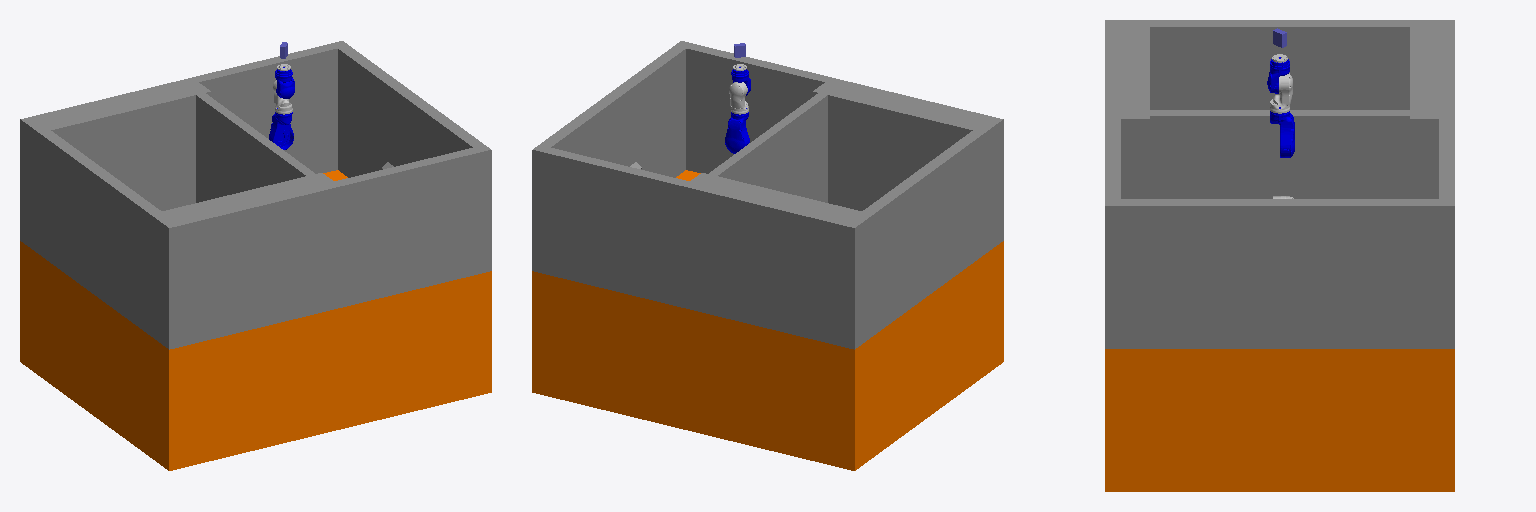
--- Facts derived from the render (not from the file) ---
3 views of the same robot in one strip: view 1: azimuth 30°, elevation 25°; view 2: azimuth 150°, elevation 25°; view 3: azimuth 270°, elevation 25° (orthographic).
Robot: mantis_dual — 49 links, 48 joints (13 revolute, 35 fixed); root link workcell_frame; default pose: every joint at zero.
Links seen in each view (by area): view 1: table_base2, right_wall2, front_wall2, table_base1, right_wall1, left_wall2, front_wall1, left_wall1, back_wall2, sia20d_arm_link_u; view 2: table_base2, left_wall2, front_wall2, table_base1, left_wall1, right_wall2, front_wall1, right_wall1, back_wall2, sia20d_arm_link_u, sia20d_arm_link_r; view 3: front_wall1, table_base1, front_wall2, back_wall1, right_wall2, left_wall2, left_wall1, right_wall1, back_wall2, sia20d_arm_link_u, sia20d_arm_link_r.
Link boxes in pixels (x1=…): table_base2: x1=20, y1=241, x2=329, y2=470; right_wall2: x1=162, y1=173, x2=339, y2=346; front_wall2: x1=20, y1=117, x2=180, y2=349; table_base1: x1=323, y1=170, x2=491, y2=431; right_wall1: x1=334, y1=147, x2=479, y2=307; left_wall2: x1=32, y1=78, x2=210, y2=210; front_wall1: x1=331, y1=41, x2=491, y2=273; left_wall1: x1=191, y1=44, x2=337, y2=173; back_wall2: x1=185, y1=86, x2=322, y2=202; sia20d_arm_link_u: x1=269, y1=108, x2=293, y2=149; table_base2: x1=694, y1=241, x2=1003, y2=470; left_wall2: x1=684, y1=173, x2=861, y2=346; front_wall2: x1=843, y1=117, x2=1003, y2=349; table_base1: x1=532, y1=170, x2=700, y2=431; left_wall1: x1=543, y1=148, x2=690, y2=307; right_wall2: x1=813, y1=78, x2=991, y2=210; front_wall1: x1=532, y1=41, x2=692, y2=273; right_wall1: x1=686, y1=44, x2=832, y2=173; back_wall2: x1=708, y1=87, x2=837, y2=202; sia20d_arm_link_u: x1=725, y1=108, x2=749, y2=153; sia20d_arm_link_r: x1=729, y1=82, x2=748, y2=114; front_wall1: x1=1105, y1=199, x2=1454, y2=348; table_base1: x1=1105, y1=349, x2=1454, y2=491; front_wall2: x1=1105, y1=20, x2=1454, y2=109; back_wall1: x1=1123, y1=113, x2=1435, y2=198; right_wall2: x1=1105, y1=27, x2=1149, y2=198; left_wall2: x1=1410, y1=27, x2=1454, y2=198; left_wall1: x1=1439, y1=118, x2=1454, y2=199; right_wall1: x1=1105, y1=118, x2=1120, y2=198; back_wall2: x1=1123, y1=110, x2=1437, y2=112; sia20d_arm_link_u: x1=1270, y1=107, x2=1294, y2=157; sia20d_arm_link_r: x1=1270, y1=73, x2=1292, y2=113.
Size in the robot's own frame: 2.77 by 2.22 by 2.68 metres.
Meshes: 16 distinct files referenced, 6 mesh visuals loaded (6 binary STL); not drawn: 10 (reference not matched to a file when rendering).

robot.urdf — mantis_dual:
<?xml version="1.0" ?>
<!-- =================================================================================== -->
<!-- |    This document was autogenerated by xacro from urdf/mantis_dual_arm_workspace.xacro | -->
<!-- |    EDITING THIS FILE BY HAND IS NOT RECOMMENDED                                 | -->
<!-- =================================================================================== -->
<robot name="mantis_dual" xmlns:controller="http://playerstage.sourceforge.net/gazebo/xmlschema/#controller" xmlns:interface="http://playerstage.sourceforge.net/gazebo/xmlschema/#interface" xmlns:sensor="http://playerstage.sourceforge.net/gazebo/xmlschema/#sensor" xmlns:xacro="http://ros.org/wiki/xacro">
  <gazebo>
    <controller:gazebo_ros_controller_manager name="gazebo_ros_controller_manager" plugin="libgazebo_ros_controller_manager.so">
      <alwaysOn>true</alwaysOn>
      <updateRate>1000.0</updateRate>
      <interface:audio name="gazebo_ros_controller_manager_dummy_iface"/>
    </controller:gazebo_ros_controller_manager>
    <controller:gazebo_ros_power_monitor name="gazebo_ros_power_monitor_controller" plugin="libgazebo_ros_power_monitor.so">
      <alwaysOn>true</alwaysOn>
      <updateRate>1.0</updateRate>
      <timeout>5</timeout>
      <interface:audio name="power_monitor_dummy_interface"/>
      <powerStateTopic>power_state</powerStateTopic>
      <powerStateRate>10.0</powerStateRate>
      <fullChargeCapacity>87.78</fullChargeCapacity>
      <dischargeRate>-474</dischargeRate>
      <chargeRate>525</chargeRate>
      <dischargeVoltage>15.52</dischargeVoltage>
      <chargeVoltage>16.41</chargeVoltage>
    </controller:gazebo_ros_power_monitor>
  </gazebo>
  <material name="yellow_transparent">
    <color rgba="0 1 1 0.4"/>
  </material>
  <material name="orange_transparent">
    <color rgba="1 0.5 0 0.4"/>
  </material>
  <material name="gray_transparent">
    <color rgba="0.6 0.6 0.6 0.4"/>
  </material>
  <material name="blue_transparent">
    <color rgba="0 0.8 1 0.4"/>
  </material>
  <link name="workcell_frame"/>
  <!-- property list -->
  <!-- instantiating arm and gripper -->
  <link name="sia20d_arm_palm">
    <visual>
      <origin rpy="0 0 0" xyz="0 0.036 -0.0473"/>
      <geometry>
        <box size="0.044 0.088 0.0946"/>
      </geometry>
      <material name="another_blue1">
        <color rgba="0.40 0.40 0.80 1"/>
      </material>
    </visual>
    <collision>
      <origin rpy="0 0 0" xyz="0 0.036 -0.0473"/>
      <geometry>
        <box size="0.044 0.088 0.0946"/>
      </geometry>
      <material name="another_blue2">
        <color rgba="0.38 0.54 0.83 1"/>
      </material>
    </collision>
  </link>
  <link name="sia20d_arm_base_link">
    <visual>
      <geometry>
        <mesh filename="package://motoman_config/meshes/sia20d/visual/MOTOMAN_BASE.stl"/>
      </geometry>
      <material name="blue">
        <color rgba="0 0 1 1"/>
      </material>
    </visual>
    <collision>
      <geometry>
        <mesh filename="package://motoman_config/meshes/sia20d/collision/MOTOMAN_BASE.stl"/>
      </geometry>
      <material name="yellow">
        <color rgba="0 1 1 1"/>
      </material>
    </collision>
  </link>
  <link name="sia20d_arm_link_s">
    <visual>
      <origin rpy="0 0 3.1416" xyz="0 0 0"/>
      <geometry>
        <mesh filename="package://motoman_config/meshes/sia20d/visual/MOTOMAN_AXIS_S.stl"/>
      </geometry>
      <material name="silver">
        <color rgba="0.8 0.8 0.8 1"/>
      </material>
    </visual>
    <collision>
      <origin rpy="0 0 3.1416" xyz="0 0 0"/>
      <geometry>
        <mesh filename="package://motoman_config/meshes/sia20d/collision/MOTOMAN_AXIS_S.stl"/>
      </geometry>
      <material name="yellow"/>
    </collision>
  </link>
  <link name="sia20d_arm_link_l">
    <visual>
      <origin rpy="1.57 3.1416 3.1416" xyz="0 0 0"/>
      <geometry>
        <mesh filename="package://motoman_config/meshes/sia20d/visual/MOTOMAN_AXIS_L.stl"/>
      </geometry>
      <material name="blue"/>
    </visual>
    <collision>
      <origin rpy="1.57 3.1416 3.1416" xyz="0 0 0"/>
      <geometry>
        <mesh filename="package://motoman_config/meshes/sia20d/collision/MOTOMAN_AXIS_L.stl"/>
      </geometry>
      <material name="yellow"/>
    </collision>
  </link>
  <link name="sia20d_arm_link_e">
    <visual>
      <origin rpy="0 0 0" xyz="0 0 0"/>
      <geometry>
        <mesh filename="package://motoman_config/meshes/sia20d/visual/MOTOMAN_AXIS_E.stl"/>
      </geometry>
      <material name="silver"/>
    </visual>
    <collision>
      <origin rpy="0 0 0" xyz="0 0 0"/>
      <geometry>
        <mesh filename="package://motoman_config/meshes/sia20d/collision/MOTOMAN_AXIS_E.stl"/>
      </geometry>
      <material name="yellow"/>
    </collision>
  </link>
  <link name="sia20d_arm_link_u">
    <visual>
      <origin rpy="1.57 -3.1415 3.1416" xyz="0 0 0"/>
      <geometry>
        <mesh filename="package://motoman_config/meshes/sia20d/visual/MOTOMAN_AXIS_U.stl"/>
      </geometry>
      <material name="blue"/>
    </visual>
    <collision>
      <origin rpy="1.57 -3.1415 3.1416" xyz="0 0 0"/>
      <geometry>
        <mesh filename="package://motoman_config/meshes/sia20d/collision/MOTOMAN_AXIS_U.stl"/>
      </geometry>
      <material name="yellow"/>
    </collision>
  </link>
  <link name="sia20d_arm_link_r">
    <visual>
      <origin rpy="0 0 0" xyz="0 0 0"/>
      <geometry>
        <mesh filename="package://motoman_config/meshes/sia20d/visual/MOTOMAN_AXIS_R.stl"/>
      </geometry>
      <material name="silver"/>
    </visual>
    <collision>
      <origin rpy="0 0 0" xyz="0 0 0"/>
      <geometry>
        <mesh filename="package://motoman_config/meshes/sia20d/collision/MOTOMAN_AXIS_R.stl"/>
      </geometry>
      <material name="yellow"/>
    </collision>
  </link>
  <link name="sia20d_arm_link_b">
    <visual>
      <origin rpy="-1.57 0 0" xyz="0 0 0"/>
      <geometry>
        <mesh filename="package://motoman_config/meshes/sia20d/visual/MOTOMAN_AXIS_B.stl"/>
      </geometry>
      <material name="blue"/>
    </visual>
    <collision>
      <origin rpy="-1.57 0 0" xyz="0 0 0"/>
      <geometry>
        <mesh filename="package://motoman_config/meshes/sia20d/collision/MOTOMAN_AXIS_B.stl"/>
      </geometry>
      <material name="yellow"/>
    </collision>
  </link>
  <link name="sia20d_arm_link_t">
    <visual>
      <geometry>
        <mesh filename="package://motoman_config/meshes/sia20d/visual/MOTOMAN_AXIS_T.stl"/>
      </geometry>
      <material name="silver"/>
    </visual>
    <collision>
      <geometry>
        <mesh filename="package://motoman_config/meshes/sia20d/collision/MOTOMAN_AXIS_T.stl"/>
      </geometry>
      <material name="yellow"/>
    </collision>
  </link>
  <joint name="sia20d_arm_joint_s" type="revolute">
    <parent link="sia20d_arm_base_link"/>
    <child link="sia20d_arm_link_s"/>
    <origin rpy="0 0 0" xyz="0 0 0.41"/>
    <axis xyz="0 0 1"/>
    <limit effort="100" lower="-3.1416" upper="3.1416" velocity="2.26"/>
  </joint>
  <joint name="sia20d_arm_joint_l" type="revolute">
    <parent link="sia20d_arm_link_s"/>
    <child link="sia20d_arm_link_l"/>
    <origin rpy="0 0 0" xyz="0 0 0"/>
    <axis xyz="0 1 0"/>
    <limit effort="100" lower="-1.91" upper="1.91" velocity="2.26"/>
  </joint>
  <joint name="sia20d_arm_joint_e" type="revolute">
    <parent link="sia20d_arm_link_l"/>
    <child link="sia20d_arm_link_e"/>
    <origin rpy="0 0 0" xyz="0 0 0.49"/>
    <axis xyz="0 0 1"/>
    <limit effort="100" lower="-2.96" upper="2.96" velocity="2.96"/>
  </joint>
  <joint name="sia20d_arm_joint_u" type="revolute">
    <parent link="sia20d_arm_link_e"/>
    <child link="sia20d_arm_link_u"/>
    <origin rpy="0 0 0" xyz="0 0 0"/>
    <axis xyz="0 -1 0"/>
    <limit effort="100" lower="-2.26" upper="2.26" velocity="2.96"/>
  </joint>
  <joint name="sia20d_arm_joint_r" type="revolute">
    <parent link="sia20d_arm_link_u"/>
    <child link="sia20d_arm_link_r"/>
    <origin rpy="0 0 0" xyz="0 0 0.420"/>
    <axis xyz="0 0 -1"/>
    <limit effort="100" lower="-3.1416" upper="3.1416" velocity="3.48"/>
  </joint>
  <joint name="sia20d_arm_joint_b" type="revolute">
    <parent link="sia20d_arm_link_r"/>
    <child link="sia20d_arm_link_b"/>
    <origin rpy="0 0 0" xyz="0 0 0"/>
    <axis xyz="0 -1 0"/>
    <limit effort="100" lower="-1.91" upper="1.91" velocity="3.48"/>
  </joint>
  <joint name="sia20d_arm_joint_t" type="revolute">
    <parent link="sia20d_arm_link_b"/>
    <child link="sia20d_arm_link_t"/>
    <origin rpy="0 0 0" xyz="0 0 0.18"/>
    <axis xyz="0 0 -1"/>
    <limit effort="100" lower="-3.1416" upper="3.1416" velocity="6.97"/>
  </joint>
  <link name="ur5_arm_base_link">
    <visual>
      <geometry>
        <mesh filename="package://ur5_description/meshes/Base.dae"/>
      </geometry>
      <origin rpy="0.0 0.0 2.3561944875" xyz="0.0 0.0 0.003"/>
    </visual>
    <inertial>
      <mass value="4.0"/>
      <inertia ixx="1.0" ixy="0.0" ixz="0.0" iyy="1.0" iyz="0.0" izz="1.0"/>
    </inertial>
  </link>
  <joint name="ur5_arm_shoulder_pan_joint" type="revolute">
    <parent link="ur5_arm_base_link"/>
    <child link="ur5_arm_shoulder_link"/>
    <origin rpy="0.0 0.0 0.0" xyz="0.0 0.0 0.089159"/>
    <axis xyz="0.0 0.0 1.0"/>
    <limit effort="10.0" lower="-6.2831853" upper="6.2831853" velocity="3.14159265"/>
    <dynamics damping="10" friction="0.1"/>
  </joint>
  <link name="ur5_arm_shoulder_link">
    <visual>
      <geometry>
        <mesh filename="package://ur5_description/meshes/Shoulder.dae"/>
      </geometry>
    </visual>
    <collision>
      <geometry>
        <cylinder length="0.16" radius="0.06"/>
      </geometry>
      <origin rpy="0.0 0.0 0.0" xyz="0.0 0.0 -0.009159"/>
    </collision>
    <inertial>
      <mass value="3.7"/>
      <inertia ixx="1.0" ixy="0.0" ixz="0.0" iyy="1.0" iyz="0.0" izz="1.0"/>
      <origin rpy="0.0 0.0 0.0" xyz="0.0 0.00193 -0.02561"/>
    </inertial>
  </link>
  <joint name="ur5_arm_shoulder_lift_joint" type="revolute">
    <parent link="ur5_arm_shoulder_link"/>
    <child link="ur5_arm_upper_arm_link"/>
    <origin rpy="0.0 1.570796325 0.0" xyz="0.0 0.13585 0.0"/>
    <axis xyz="0.0 1.0 0.0"/>
    <limit effort="10.0" lower="-6.2831853" upper="6.2831853" velocity="3.14159265"/>
    <dynamics damping="10" friction="0.1"/>
  </joint>
  <link name="ur5_arm_upper_arm_link">
    <visual>
      <geometry>
        <mesh filename="package://ur5_description/meshes/UpperArm.dae"/>
      </geometry>
      <origin rpy="0.0 0.0 0.0" xyz="0.0 0.0 0.0"/>
    </visual>
    <collision>
      <geometry>
        <cylinder length="0.425" radius="0.054"/>
      </geometry>
      <origin rpy="0.0 0.0 0.0" xyz="0.0 0.0 0.2125"/>
    </collision>
    <inertial>
      <mass value="8.393"/>
      <inertia ixx="1.0" ixy="0.0" ixz="0.0" iyy="1.0" iyz="0.0" izz="1.0"/>
      <origin rpy="0.0 0.0 0.0" xyz="0.0 -0.024201 0.2125"/>
    </inertial>
  </link>
  <joint name="ur5_arm_elbow_joint" type="revolute">
    <parent link="ur5_arm_upper_arm_link"/>
    <child link="ur5_arm_forearm_link"/>
    <origin rpy="0.0 0.0 0.0" xyz="0.0 -0.1197 0.425"/>
    <axis xyz="0.0 1.0 0.0"/>
    <limit effort="10.0" lower="-6.2831853" upper="6.2831853" velocity="3.14159265"/>
    <dynamics damping="10" friction="0.1"/>
  </joint>
  <link name="ur5_arm_forearm_link">
    <visual>
      <geometry>
        <mesh filename="package://ur5_description/meshes/Forearm.dae"/>
      </geometry>
    </visual>
    <collision>
      <geometry>
        <cylinder length="0.39225" radius="0.04"/>
      </geometry>
      <origin rpy="0.0 0.0 0.0" xyz="0.0 0.0 0.196125"/>
    </collision>
    <inertial>
      <mass value="2.275"/>
      <origin rpy="0.0 0.0 0.0" xyz="0.0 0.0265 0.11993"/>
      <inertia ixx="1.0" ixy="0.0" ixz="0.0" iyy="1.0" iyz="0.0" izz="1.0"/>
    </inertial>
  </link>
  <joint name="ur5_arm_wrist_1_joint" type="revolute">
    <parent link="ur5_arm_forearm_link"/>
    <child link="ur5_arm_wrist_1_link"/>
    <origin rpy="0.0 1.570796325 0.0" xyz="0.0 0.0 0.39225"/>
    <axis xyz="0.0 1.0 0.0"/>
    <limit effort="10.0" lower="-6.2831853" upper="6.2831853" velocity="3.14159265"/>
    <dynamics damping="10" friction="0.1"/>
  </joint>
  <link name="ur5_arm_wrist_1_link">
    <visual>
      <geometry>
        <mesh filename="package://ur5_description/meshes/Wrist1.dae"/>
      </geometry>
      <origin rpy="0.0 1.570796325 0.0" xyz="0.0 0.093 0.0"/>
    </visual>
    <collision>
      <geometry>
        <cylinder length="0.1488" radius="0.045"/>
      </geometry>
      <origin rpy="-1.570796325 0.0 0.0" xyz="0.0 0.02325 0.0"/>
    </collision>
    <inertial>
      <mass value="1.219"/>
      <origin rpy="0.0 0.0 0.0" xyz="0.0 0.110949 0.01634"/>
      <inertia ixx="1.0" ixy="0.0" ixz="0.0" iyy="1.0" iyz="0.0" izz="1.0"/>
    </inertial>
  </link>
  <joint name="ur5_arm_wrist_2_joint" type="revolute">
    <parent link="ur5_arm_wrist_1_link"/>
    <child link="ur5_arm_wrist_2_link"/>
    <origin rpy="0.0 0.0 0.0" xyz="0.0 0.093 0.0"/>
    <axis xyz="0.0 0.0 1.0"/>
    <limit effort="10.0" lower="-6.2831853" upper="6.2831853" velocity="3.14159265"/>
    <dynamics damping="10" friction="0.1"/>
  </joint>
  <link name="ur5_arm_wrist_2_link">
    <visual>
      <geometry>
        <mesh filename="package://ur5_description/meshes/Wrist2.dae"/>
      </geometry>
      <origin rpy="0.0 0.0 0.0" xyz="0.0 0.0 0.09465"/>
    </visual>
    <collision>
      <geometry>
        <cylinder length="0.15144" radius="0.045"/>
      </geometry>
      <origin rpy="0.0 0.0 0.0" xyz="0.0 0.0 0.0236625"/>
    </collision>
    <inertial>
      <mass value="1.219"/>
      <origin rpy="0.0 0.0 0.0" xyz="0.0 0.0018 0.11099"/>
      <inertia ixx="1.0" ixy="0.0" ixz="0.0" iyy="1.0" iyz="0.0" izz="1.0"/>
    </inertial>
  </link>
  <joint name="ur5_arm_wrist_3_joint" type="revolute">
    <parent link="ur5_arm_wrist_2_link"/>
    <child link="ur5_arm_wrist_3_link"/>
    <origin rpy="0.0 0.0 0.0" xyz="0.0 0.0 0.09465"/>
    <axis xyz="0.0 1.0 0.0"/>
    <limit effort="10.0" lower="-6.2831853" upper="6.2831853" velocity="3.14159265"/>
    <dynamics damping="10" friction="0.1"/>
  </joint>
  <link name="ur5_arm_wrist_3_link">
    <visual>
      <geometry>
        <mesh filename="package://ur5_description/meshes/Wrist3.dae"/>
      </geometry>
    </visual>
    <collision>
      <geometry>
        <cylinder length="0.135795" radius="0.045"/>
      </geometry>
      <origin rpy="-1.570796325 0.0 0.0" xyz="0.0 0.012345 0.0"/>
    </collision>
    <inertial>
      <mass value="0.1879"/>
      <origin rpy="0.0 0.0 0.0" xyz="0.0 0.001159 0.0"/>
      <inertia ixx="1.0" ixy="0.0" ixz="0.0" iyy="1.0" iyz="0.0" izz="1.0"/>
    </inertial>
  </link>
  <joint name="ur5_arm_ee_fixed_joint" type="fixed">
    <parent link="ur5_arm_wrist_3_link"/>
    <child link="ur5_arm_ee_link"/>
    <origin rpy="0.0 0.0 1.570796325" xyz="0.0 0.0823 0.0"/>
  </joint>
  <link name="ur5_arm_ee_link"/>
  <transmission name="shoulder_pan_trans" type="pr2_mechanism_model/SimpleTransmission">
    <actuator name="shoulder_pan_motor"/>
    <joint name="ur5_arm_shoulder_pan_joint"/>
    <mechanicalReduction>1</mechanicalReduction>
  </transmission>
  <transmission name="shoulder_lift_trans" type="pr2_mechanism_model/SimpleTransmission">
    <actuator name="shoulder_lift_motor"/>
    <joint name="ur5_arm_shoulder_lift_joint"/>
    <mechanicalReduction>1</mechanicalReduction>
  </transmission>
  <transmission name="elbow_trans" type="pr2_mechanism_model/SimpleTransmission">
    <actuator name="elbow_motor"/>
    <joint name="ur5_arm_elbow_joint"/>
    <mechanicalReduction>1</mechanicalReduction>
  </transmission>
  <transmission name="wrist_1_trans" type="pr2_mechanism_model/SimpleTransmission">
    <actuator name="wrist_1_motor"/>
    <joint name="ur5_arm_wrist_1_joint"/>
    <mechanicalReduction>1</mechanicalReduction>
  </transmission>
  <transmission name="wrist_2_trans" type="pr2_mechanism_model/SimpleTransmission">
    <actuator name="wrist_2_motor"/>
    <joint name="ur5_arm_wrist_2_joint"/>
    <mechanicalReduction>1</mechanicalReduction>
  </transmission>
  <transmission name="wrist_3_trans" type="pr2_mechanism_model/SimpleTransmission">
    <actuator name="wrist_3_motor"/>
    <joint name="ur5_arm_wrist_3_joint"/>
    <mechanicalReduction>1</mechanicalReduction>
  </transmission>
  <gazebo reference="universal_robot">
    <material>Gazebo/Blue</material>
  </gazebo>
  <link name="ur5_arm_gripper_frame"/>
  <link name="ur5_arm_gripper_body">
    <visual>
      <!--origin xyz="0 0.036 -0.0473" rpy="0 0 0"/-->
      <geometry>
        <box size="0.044 0.088 0.0946"/>
      </geometry>
      <material name="another_blue1">
        <color rgba="0.40 0.40 0.80 1"/>
      </material>
    </visual>
    <collision>
      <geometry>
        <box size="0.044 0.088 0.0946"/>
      </geometry>
      <material name="another_blue2">
        <color rgba="0.38 0.54 0.83 1"/>
      </material>
    </collision>
  </link>
  <link name="ur5_arm_tcp_frame"/>
  <joint name="ur5_arm_gripper_to_palm" type="fixed">
    <parent link="ur5_arm_gripper_frame"/>
    <child link="ur5_arm_gripper_body"/>
    <origin rpy="0 0 0" xyz="0 0 0.0473"/>
  </joint>
  <joint name="ur5_arm_gripper_to_tcp" type="fixed">
    <parent link="ur5_arm_gripper_frame"/>
    <child link="ur5_arm_tcp_frame"/>
    <origin rpy="0 0 0" xyz="0.022 0 0.0946"/>
  </joint>
  <!-- instantiating workcell definitions -->
  <link name="table_base1">
    <visual>
      <origin rpy="0 0 0" xyz="0 0 -0.5"/>
      <geometry>
        <box size="1.3875 2.22 1"/>
      </geometry>
      <material name="orange_transparent"/>
    </visual>
    <collision>
      <origin rpy="0 0 0" xyz="0 0 -0.5"/>
      <geometry>
        <box size="1.3875 2.22 1"/>
      </geometry>
      <material name="blue_transparent"/>
    </collision>
  </link>
  <joint name="workcell_to_table_base1" type="fixed">
    <parent link="workcell_frame"/>
    <child link="table_base1"/>
    <origin rpy="0 0 0" xyz="0.69375 0 0"/>
  </joint>
  <link name="front_wall1">
    <visual>
      <geometry>
        <box size="0.1 2.22 1"/>
      </geometry>
      <material name="gray_transparent"/>
    </visual>
    <collision>
      <geometry>
        <box size="0.1 2.22 1"/>
      </geometry>
      <material name="blue_transparent"/>
    </collision>
  </link>
  <joint name="workcell_frame_to_front_wall1" type="fixed">
    <parent link="workcell_frame"/>
    <child link="front_wall1"/>
    <origin rpy="0 0 0" xyz="1.3375 0 0.5"/>
  </joint>
  <link name="back_wall1">
    <visual>
      <geometry>
        <box size="0.04 2.0 1"/>
      </geometry>
      <material name="gray_transparent"/>
    </visual>
    <collision>
      <geometry>
        <box size="0.04 2.0 1"/>
      </geometry>
      <material name="blue_transparent"/>
    </collision>
  </link>
  <joint name="workcell_frame_to_back_wall1" type="fixed">
    <parent link="workcell_frame"/>
    <child link="back_wall1"/>
    <origin rpy="0 0 0" xyz="0.02 0 0.5"/>
  </joint>
  <link name="left_wall1">
    <visual>
      <geometry>
        <box size="1.221 0.1 1"/>
      </geometry>
      <material name="gray_transparent"/>
    </visual>
    <collision>
      <geometry>
        <box size="1.221 0.1 1"/>
      </geometry>
      <material name="blue_transparent"/>
    </collision>
  </link>
  <joint name="workcell_frame_to_left_wall1" type="fixed">
    <parent link="workcell_frame"/>
    <child link="left_wall1"/>
    <origin rpy="0 0 0" xyz="0.687 1.06 0.5"/>
  </joint>
  <link name="right_wall1">
    <visual>
      <geometry>
        <box size="1.221 0.1 1"/>
      </geometry>
      <material name="gray_transparent"/>
    </visual>
    <collision>
      <geometry>
        <box size="1.221 0.1 1"/>
      </geometry>
      <material name="blue_transparent"/>
    </collision>
  </link>
  <joint name="workcell_frame_to_right_wall1" type="fixed">
    <parent link="workcell_frame"/>
    <child link="right_wall1"/>
    <origin rpy="0 0 0" xyz="0.687 -1.06 0.5"/>
  </joint>
  <link name="table_base2">
    <visual>
      <origin rpy="0 0 0" xyz="0 0 -0.5"/>
      <geometry>
        <box size="1.3875 2.22 1"/>
      </geometry>
      <material name="orange_transparent"/>
    </visual>
    <collision>
      <origin rpy="0 0 0" xyz="0 0 -0.5"/>
      <geometry>
        <box size="1.3875 2.22 1"/>
      </geometry>
      <material name="blue_transparent"/>
    </collision>
  </link>
  <joint name="workcell_to_table_base2" type="fixed">
    <parent link="workcell_frame"/>
    <child link="table_base2"/>
    <origin rpy="0 0 0" xyz="-0.69375 0 0"/>
  </joint>
  <link name="front_wall2">
    <visual>
      <geometry>
        <box size="0.1 2.22 1"/>
      </geometry>
      <material name="gray_transparent"/>
    </visual>
    <collision>
      <geometry>
        <box size="0.1 2.22 1"/>
      </geometry>
      <material name="blue_transparent"/>
    </collision>
  </link>
  <joint name="workcell_frame_to_front_wall2" type="fixed">
    <parent link="workcell_frame"/>
    <child link="front_wall2"/>
    <origin rpy="0 0 0" xyz="-1.3375 0 0.5"/>
  </joint>
  <link name="back_wall2">
    <visual>
      <geometry>
        <box size="0.04 2.0 1"/>
      </geometry>
      <material name="gray_transparent"/>
    </visual>
    <collision>
      <geometry>
        <box size="0.04 2.0 1"/>
      </geometry>
      <material name="blue_transparent"/>
    </collision>
  </link>
  <joint name="workcell_frame_to_back_wall2" type="fixed">
    <parent link="workcell_frame"/>
    <child link="back_wall2"/>
    <origin rpy="0 0 0" xyz="-0.02 0 0.5"/>
  </joint>
  <link name="left_wall2">
    <visual>
      <geometry>
        <box size="1.384 0.284 1"/>
      </geometry>
      <material name="gray_transparent"/>
    </visual>
    <collision>
      <geometry>
        <box size="1.384 0.284 1"/>
      </geometry>
      <material name="blue_transparent"/>
    </collision>
  </link>
  <joint name="workcell_frame_to_left_wall2" type="fixed">
    <parent link="workcell_frame"/>
    <child link="left_wall2"/>
    <origin rpy="0 0 0" xyz="-0.601 0.968 0.5"/>
  </joint>
  <link name="right_wall2">
    <visual>
      <geometry>
        <box size="1.384 0.284 1"/>
      </geometry>
      <material name="gray_transparent"/>
    </visual>
    <collision>
      <geometry>
        <box size="1.384 0.284 1"/>
      </geometry>
      <material name="blue_transparent"/>
    </collision>
  </link>
  <joint name="workcell_frame_to_right_wall2" type="fixed">
    <parent link="workcell_frame"/>
    <child link="right_wall2"/>
    <origin rpy="0 0 0" xyz="-0.601 -0.968 0.5"/>
  </joint>
  <link name="cover_part1">
    <visual>
      <geometry>
        <box size="0.229 0.508 0.14"/>
      </geometry>
      <material name="gray_transparent"/>
    </visual>
    <collision>
      <geometry>
        <box size="0.229 0.508 0.14"/>
      </geometry>
      <material name="blue_transparent"/>
    </collision>
  </link>
  <joint name="workcell_frame_to_cover_part1" type="fixed">
    <parent link="workcell_frame"/>
    <child link="cover_part1"/>
    <origin rpy="0 0 0" xyz="-0.042 -0.081 0.07"/>
  </joint>
  <link name="cover_part2">
    <visual>
      <geometry>
        <box size="0.121 0.26 0.14"/>
      </geometry>
      <material name="gray_transparent"/>
    </visual>
    <collision>
      <geometry>
        <box size="0.121 0.26 0.14"/>
      </geometry>
      <material name="blue_transparent"/>
    </collision>
  </link>
  <joint name="workcell_frame_to_cover_part2" type="fixed">
    <parent link="workcell_frame"/>
    <child link="cover_part2"/>
    <origin rpy="0 0 0" xyz="-0.012 -0.465 0.07"/>
  </joint>
  <!-- end of workcell definitions -->
  <!-- instantiating sensor definitions -->
  <material name="sia20d_arm_color_b">
    <color rgba="0 0.8 1 0.4"/>
  </material>
  <material name="sia20d_arm_color_a">
    <color rgba="0.8 0.2 1 0.2"/>
  </material>
  <material name="sia20d_arm_silver">
    <color rgba="0.6 0.6 0.6 1"/>
  </material>
  <link name="sia20d_arm_kinect">
    <collision>
      <material name="sia20d_arm_color_a"/>
      <geometry>
        <box size="0.36 0.28 0.22"/>
      </geometry>
    </collision>
  </link>
  <link name="sia20d_arm_kinect_keepout">
    <collision>
      <material name="sia20d_arm_color_b"/>
      <geometry>
        <box size="0.2 0.32 0.48"/>
      </geometry>
    </collision>
  </link>
  <link name="sia20d_arm_kinect_frame">
    <visual>
      <origin rpy="0 0 0" xyz="0 0 0"/>
      <geometry>
        <box size="0.064 0.28 0.04"/>
      </geometry>
      <material name="sia20d_arm_silver"/>
    </visual>
    <collision>
      <origin rpy="0 0 0" xyz="0 0 0"/>
      <geometry>
        <box size="0.064 0.28 0.04"/>
      </geometry>
    </collision>
  </link>
  <link name="sia20d_arm_kinect_ir_link">
    <visual>
      <origin rpy="0 0 0" xyz="0 0 0"/>
      <geometry>
        <sphere radius="0.0005"/>
      </geometry>
    </visual>
  </link>
  <link name="sia20d_arm_kinect_rgb_link">
    <visual>
      <origin rpy="0 0 0" xyz="0 0 0"/>
      <geometry>
        <sphere radius="0.0005"/>
      </geometry>
    </visual>
  </link>
  <link name="sia20d_arm_kinect_ir_optical_frame"/>
  <link name="sia20d_arm_kinect_rgb_optical_frame"/>
  <joint name="sia20d_arm_kinect_frame_joint" type="fixed">
    <parent link="sia20d_arm_kinect"/>
    <child link="sia20d_arm_kinect_frame"/>
    <origin rpy="0 0 0" xyz="0 0 0"/>
  </joint>
  <joint name="sia20d_arm_kinect_ir_joint" type="fixed">
    <parent link="sia20d_arm_kinect_frame"/>
    <child link="sia20d_arm_kinect_ir_link"/>
    <origin rpy="0 0 0" xyz="0 0 0"/>
  </joint>
  <joint name="sia20d_arm_kinect_ir_optical_frame_joint" type="fixed">
    <parent link="sia20d_arm_kinect_ir_link"/>
    <child link="sia20d_arm_kinect_ir_optical_frame"/>
    <origin rpy="-1.57 0 -1.57" xyz="0 0 0"/>
  </joint>
  <joint name="sia20d_arm_kinect_rgb_joint" type="fixed">
    <parent link="sia20d_arm_kinect_ir_link"/>
    <child link="sia20d_arm_kinect_rgb_link"/>
    <origin rpy="0 0 0" xyz="0 -0.03 0"/>
  </joint>
  <joint name="sia20d_arm_kinect_rgb_optical_frame_joint" type="fixed">
    <parent link="sia20d_arm_kinect_rgb_link"/>
    <child link="sia20d_arm_kinect_rgb_optical_frame"/>
    <origin rpy="-1.57 0 -1.57" xyz="0 0 0"/>
  </joint>
  <joint name="sia20d_arm_workcell_frame_to_kinect" type="fixed">
    <parent link="workcell_frame"/>
    <child link="sia20d_arm_kinect"/>
    <origin rpy="0 0.5235 3.147" xyz="1.2 0 0.4"/>
  </joint>
  <joint name="sia20d_arm_workcell_frame_to_kinect_keepout" type="fixed">
    <parent link="workcell_frame"/>
    <child link="sia20d_arm_kinect_keepout"/>
    <origin rpy="0 0 3.147" xyz="1.2 0 0.24"/>
  </joint>
  <material name="ur5_arm_color_b">
    <color rgba="0 0.8 1 0.4"/>
  </material>
  <material name="ur5_arm_color_a">
    <color rgba="0.8 0.2 1 0.2"/>
  </material>
  <material name="ur5_arm_silver">
    <color rgba="0.6 0.6 0.6 1"/>
  </material>
  <link name="ur5_arm_kinect">
    <collision>
      <material name="ur5_arm_color_a"/>
      <geometry>
        <box size="0.36 0.28 0.22"/>
      </geometry>
    </collision>
  </link>
  <link name="ur5_arm_kinect_keepout">
    <collision>
      <material name="ur5_arm_color_b"/>
      <geometry>
        <box size="0.2 0.32 0.48"/>
      </geometry>
    </collision>
  </link>
  <link name="ur5_arm_kinect_frame">
    <visual>
      <origin rpy="0 0 0" xyz="0 0 0"/>
      <geometry>
        <box size="0.064 0.28 0.04"/>
      </geometry>
      <material name="ur5_arm_silver"/>
    </visual>
    <collision>
      <origin rpy="0 0 0" xyz="0 0 0"/>
      <geometry>
        <box size="0.064 0.28 0.04"/>
      </geometry>
    </collision>
  </link>
  <link name="ur5_arm_kinect_ir_link">
    <visual>
      <origin rpy="0 0 0" xyz="0 0 0"/>
      <geometry>
        <sphere radius="0.0005"/>
      </geometry>
    </visual>
  </link>
  <link name="ur5_arm_kinect_rgb_link">
    <visual>
      <origin rpy="0 0 0" xyz="0 0 0"/>
      <geometry>
        <sphere radius="0.0005"/>
      </geometry>
    </visual>
  </link>
  <link name="ur5_arm_kinect_ir_optical_frame"/>
  <link name="ur5_arm_kinect_rgb_optical_frame"/>
  <joint name="ur5_arm_kinect_frame_joint" type="fixed">
    <parent link="ur5_arm_kinect"/>
    <child link="ur5_arm_kinect_frame"/>
    <origin rpy="0 0 0" xyz="0 0 0"/>
  </joint>
  <joint name="ur5_arm_kinect_ir_joint" type="fixed">
    <parent link="ur5_arm_kinect_frame"/>
    <child link="ur5_arm_kinect_ir_link"/>
    <origin rpy="0 0 0" xyz="0 0 0"/>
  </joint>
  <joint name="ur5_arm_kinect_ir_optical_frame_joint" type="fixed">
    <parent link="ur5_arm_kinect_ir_link"/>
    <child link="ur5_arm_kinect_ir_optical_frame"/>
    <origin rpy="-1.57 0 -1.57" xyz="0 0 0"/>
  </joint>
  <joint name="ur5_arm_kinect_rgb_joint" type="fixed">
    <parent link="ur5_arm_kinect_ir_link"/>
    <child link="ur5_arm_kinect_rgb_link"/>
    <origin rpy="0 0 0" xyz="0 -0.03 0"/>
  </joint>
  <joint name="ur5_arm_kinect_rgb_optical_frame_joint" type="fixed">
    <parent link="ur5_arm_kinect_rgb_link"/>
    <child link="ur5_arm_kinect_rgb_optical_frame"/>
    <origin rpy="-1.57 0 -1.57" xyz="0 0 0"/>
  </joint>
  <joint name="ur5_arm_workcell_frame_to_kinect" type="fixed">
    <parent link="workcell_frame"/>
    <child link="ur5_arm_kinect"/>
    <origin rpy="0 0.5235 0" xyz="-1.2 0 0.4"/>
  </joint>
  <joint name="ur5_arm_workcell_frame_to_kinect_keepout" type="fixed">
    <parent link="workcell_frame"/>
    <child link="ur5_arm_kinect_keepout"/>
    <origin rpy="0 0 0" xyz="-1.2 0 0.24"/>
  </joint>
  <!-- end of sensor definitions -->
  <!-- arm-workcell link definitions -->
  <link name="ur5_stand">
    <visual>
      <geometry>
        <cylinder length="0.20" radius="0.0735"/>
      </geometry>
      <material name="orange_transparent"/>
    </visual>
    <collision>
      <geometry>
        <cylinder length="0.20" radius="0.0735"/>
      </geometry>
      <material name="blue_transparent"/>
    </collision>
  </link>
  <joint name="workcell_to_stand" type="fixed">
    <parent link="workcell_frame"/>
    <child link="ur5_stand"/>
    <origin xyz="-0.238 0 0.10"/>
  </joint>
  <!-- end of arm-workcell link definitions -->
  <!-- arm-workcell joint definitions -->
  <joint name="sia20d_to_workcell" type="fixed">
    <parent link="workcell_frame"/>
    <child link="sia20d_arm_base_link"/>
    <origin rpy="0 0 0" xyz="0.241 0 0"/>
  </joint>
  <joint name="ur5_to_stand" type="fixed">
    <parent link="ur5_stand"/>
    <child link="ur5_arm_base_link"/>
    <origin rpy="0 0 -3.14" xyz="0 0 0.10"/>
  </joint>
  <!-- end of arm workcell joint definitions-->
  <!-- arm-gripper coupling link definitions-->
  <link name="sia20d_arm_coupler">
    <visual>
      <geometry>
        <mesh filename="package://longhorn/meshes/coupler/visual/COUPLER.stl"/>
      </geometry>
      <material name="orange">
        <color rgba="1 0.5 0 1"/>
      </material>
    </visual>
    <collision>
      <geometry>
        <mesh filename="package://longhorn/meshes/coupler/collision/COUPLER.stl"/>
      </geometry>
      <material name="yellow">
        <color rgba="0 1 1 1"/>
      </material>
    </collision>
  </link>
  <!-- end of arm-gripper coupling link definitions -->
  <!-- arm-gripper coupling joint definitions -->
  <joint name="tool-coupler" type="fixed">
    <parent link="sia20d_arm_link_t"/>
    <child link="sia20d_arm_coupler"/>
    <origin rpy="1.570 0 -0.785" xyz="0 0 0"/>
  </joint>
  <joint name="coupler-hand" type="fixed">
    <parent link="sia20d_arm_coupler"/>
    <child link="sia20d_arm_palm"/>
    <origin rpy="-1.570 0 0" xyz="0 0.182 0.036"/>
  </joint>
  <joint name="ur5_to_gripper" type="fixed">
    <parent link="ur5_arm_ee_link"/>
    <child link="ur5_arm_gripper_frame"/>
    <origin rpy="0 1.57 0" xyz="0 0 0"/>
  </joint>
  <!-- end of arm-gripper coupling joint definitions -->
</robot>
